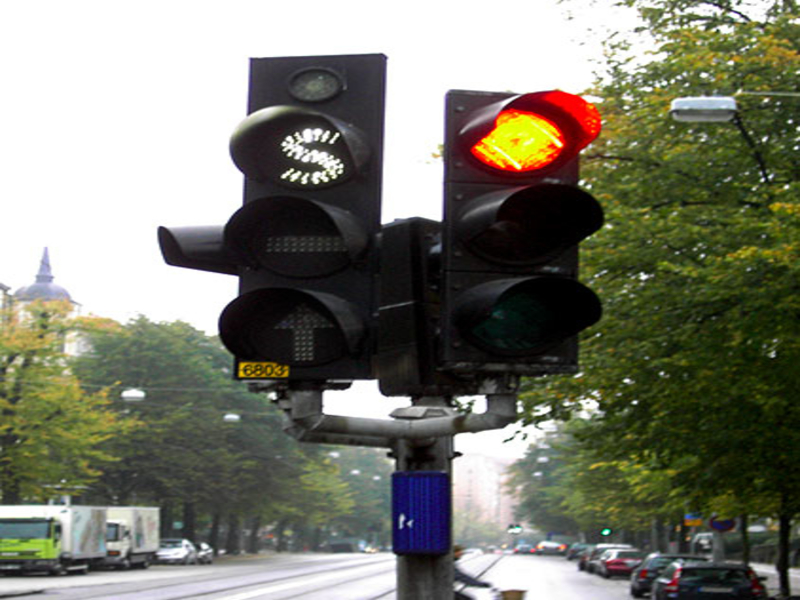traffic_light: (153, 53, 386, 380), (441, 89, 606, 374), (377, 214, 482, 397)
